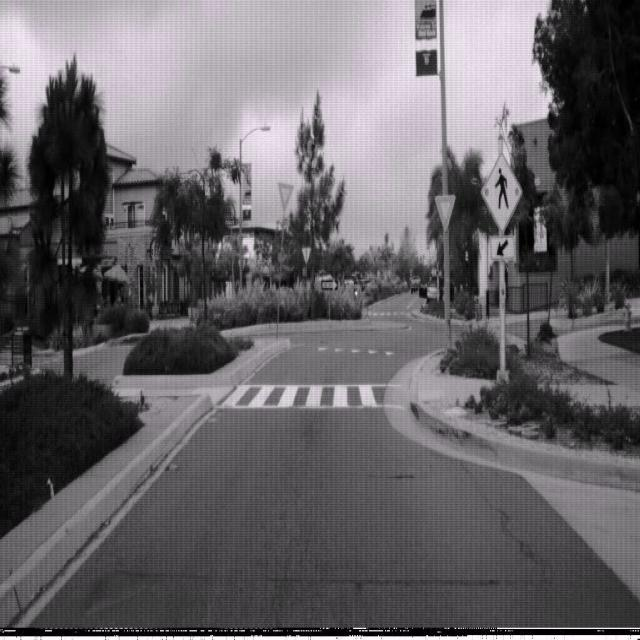pedestrianCrossing: (480, 150, 523, 236)
yield: (434, 192, 456, 233), (277, 180, 294, 212)
